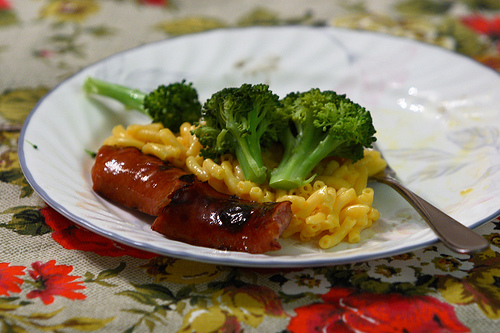broccoli: (270, 88, 376, 188), (203, 82, 282, 181), (84, 75, 203, 132)
